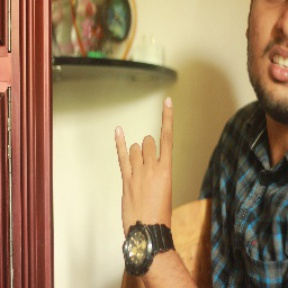V: (109, 92, 187, 235)
